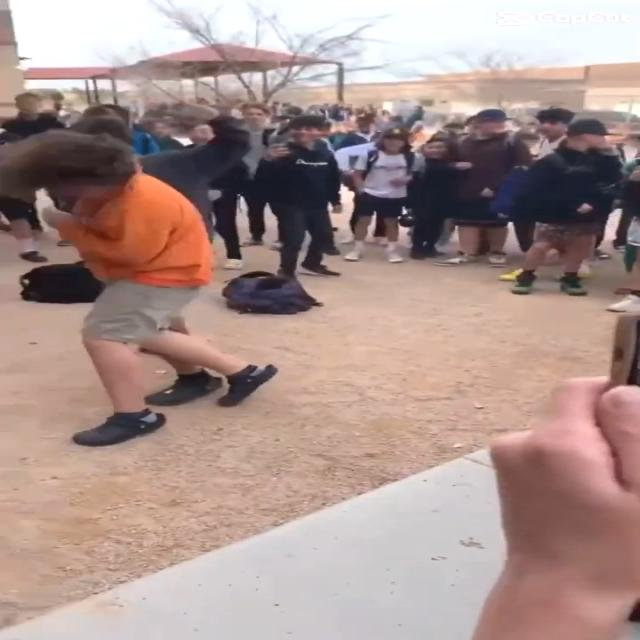fight: (7, 129, 284, 448)
